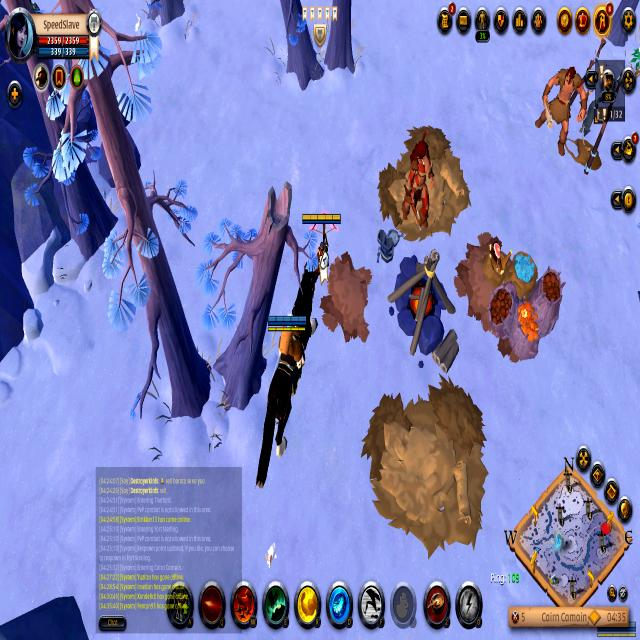hide: (629, 43, 640, 85)
ore: (534, 59, 586, 160), (401, 132, 434, 230)
red: (255, 272, 322, 493), (301, 209, 344, 284)
